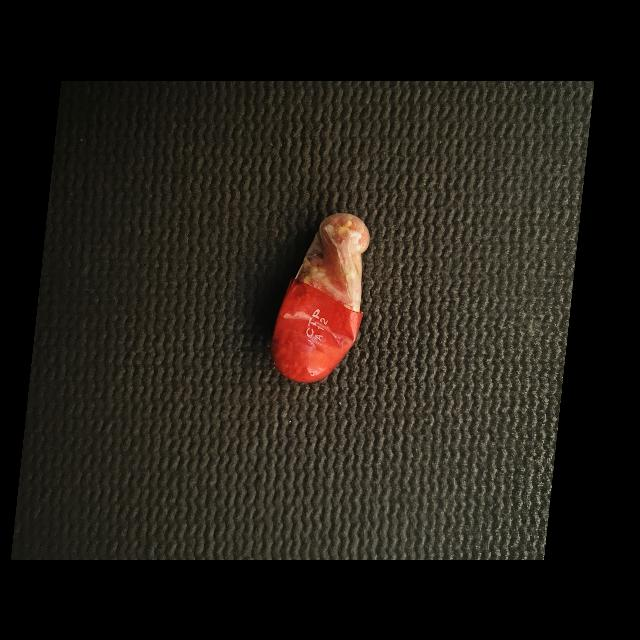Defective Capsule: (271, 212, 370, 382)
